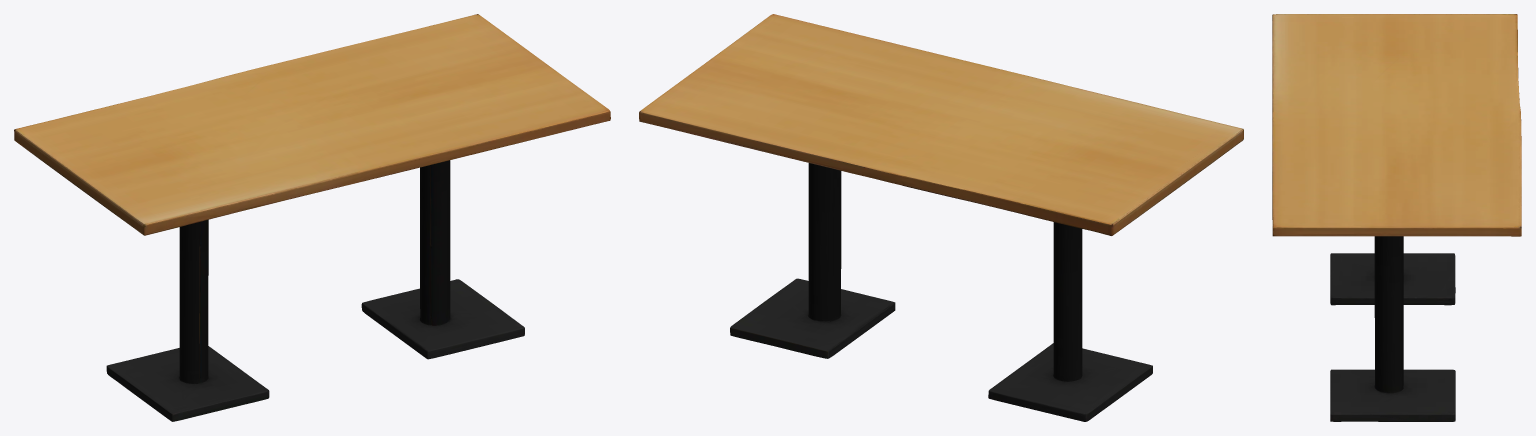
File: table_wood_rect_2.glb
3 views of the same model, side by side, from view 1: azimuth 30°, elevation 25°; view 2: azimuth 150°, elevation 25°; view 3: azimuth 270°, elevation 25° (orthographic). The views are drawn at different scales.
Parts seen in each view (by area): view 1: geometry_0; view 2: geometry_0; view 3: geometry_0.
Part boxes in pixels (x1,y1,x2,y2): geometry_0: [14, 14, 610, 421]; geometry_0: [639, 14, 1243, 421]; geometry_0: [1272, 14, 1521, 421].
Bounding box in the file's own units: 1 × 0.4812 × 0.4939.
1 material, 1 textured.
